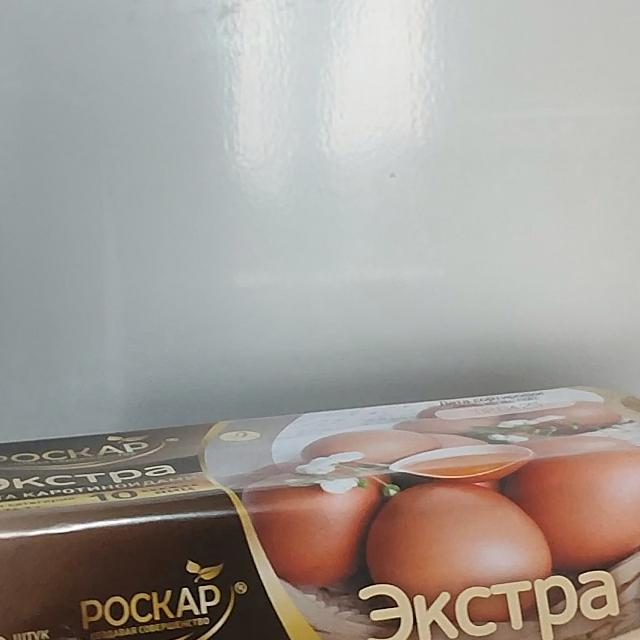egg: (0, 369, 640, 640)
